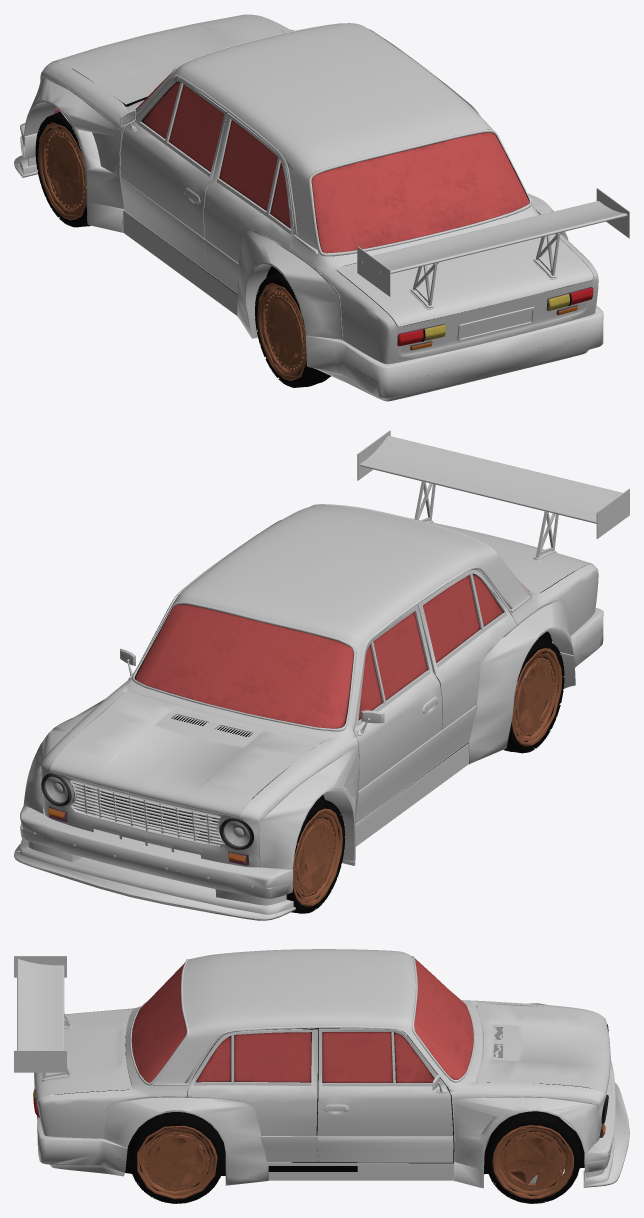
Rendered from LADA VAZ 8.fbx.
The picture shows the model from 3 angles, top to bottom: view 1: azimuth 30°, elevation 25°; view 2: azimuth 150°, elevation 25°; view 3: azimuth 270°, elevation 25°; orthographic projection. The views are drawn at different scales.
Parts seen in each view (by area): view 1: body, wide body, windows, wing and grill, wheel Rear L, wheel Front L, lights; view 2: body, wide body, windows, wing and grill, wheel Rear L, wheel Front L, lights, black body box; view 3: body, wide body, windows, wing and grill, wheel Front R, wheel Rear R, black body box.
Part boxes in pixels (left/top/right/bottom): body: left=41, top=14, right=598, bottom=364; wide body: left=14, top=29, right=603, bottom=401; windows: left=135, top=73, right=529, bottom=253; wing and grill: left=71, top=68, right=629, bottom=341; wheel Rear L: left=255, top=272, right=330, bottom=387; wheel Front L: left=35, top=111, right=90, bottom=227; lights: left=54, top=107, right=593, bottom=350; body: left=41, top=504, right=598, bottom=867; wide body: left=14, top=599, right=603, bottom=920; windows: left=134, top=573, right=529, bottom=728; wing and grill: left=33, top=430, right=629, bottom=888; wheel Rear L: left=503, top=637, right=564, bottom=753; wheel Front L: left=286, top=798, right=345, bottom=913; lights: left=41, top=773, right=253, bottom=865; black body box: left=72, top=571, right=574, bottom=868; body: left=34, top=949, right=610, bottom=1162; wide body: left=37, top=1003, right=629, bottom=1188; windows: left=131, top=958, right=473, bottom=1082; wing and grill: left=14, top=956, right=613, bottom=1162; wheel Front R: left=485, top=1111, right=581, bottom=1203; wheel Rear R: left=128, top=1112, right=225, bottom=1203; black body box: left=55, top=1028, right=590, bottom=1175.
Bounding box in the file's own units: 198 × 150 × 475.
